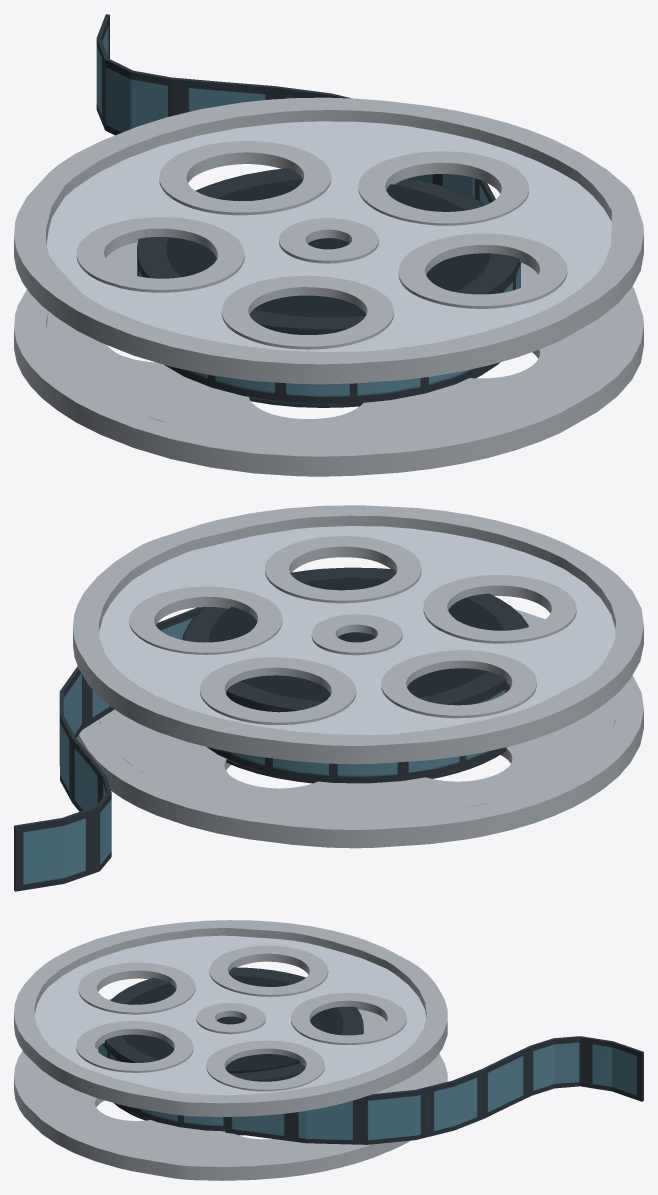
The model's file is Wheel.glb.
3 views of the same model, one above another, from view 1: azimuth 30°, elevation 25°; view 2: azimuth 150°, elevation 25°; view 3: azimuth 270°, elevation 25° (orthographic). The views are drawn at different scales.
Visible parts, largest first — view 1: Circle.002; view 2: Circle.002; view 3: Circle.002.
Boxes of the visible parts, bbox=[...] form: Circle.002: bbox=[14, 14, 643, 476]; Circle.002: bbox=[14, 505, 643, 891]; Circle.002: bbox=[14, 920, 643, 1180].
Bounding box in the file's own units: 1.76 × 0.3482 × 2.56.
Materials: 1 (1 with a texture image).
